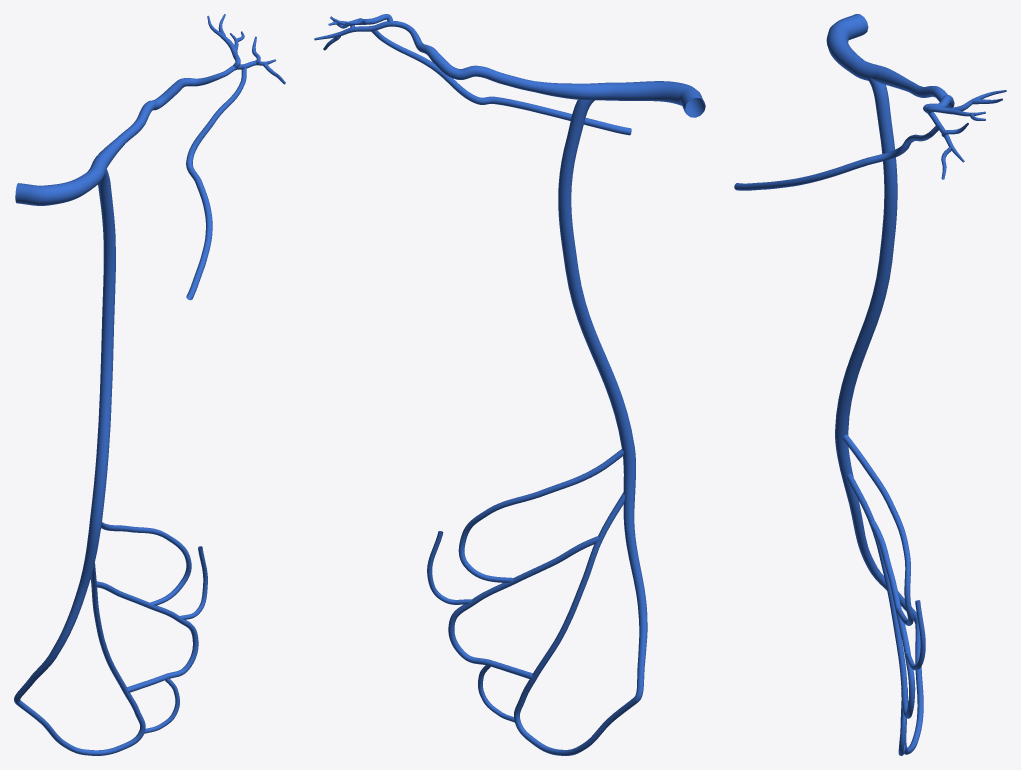
File: circulatorio-splenic-vein.glb
The picture shows the model from 3 angles, left to right: view 1: azimuth 30°, elevation 25°; view 2: azimuth 150°, elevation 25°; view 3: azimuth 270°, elevation 25°; orthographic projection. The views are drawn at different scales.
Visible parts, largest first — view 1: Inferior mesenteric vein, Sigmoid veins, Splenic vein, Left gastro-omental vein; view 2: Inferior mesenteric vein, Sigmoid veins, Splenic vein, Left gastro-omental vein; view 3: Inferior mesenteric vein, Sigmoid veins, Splenic vein, Left gastro-omental vein.
Part boxes in pixels (x1,y1,x2,y2): Inferior mesenteric vein: [14, 169, 115, 704]; Sigmoid veins: [16, 522, 207, 755]; Splenic vein: [15, 14, 285, 205]; Left gastro-omental vein: [186, 66, 246, 300]; Inferior mesenteric vein: [558, 100, 647, 701]; Sigmoid veins: [427, 449, 637, 755]; Splenic vein: [314, 14, 705, 117]; Left gastro-omental vein: [371, 30, 631, 135]; Inferior mesenteric vein: [835, 77, 918, 624]; Sigmoid veins: [842, 434, 925, 755]; Splenic vein: [826, 14, 1006, 179]; Left gastro-omental vein: [734, 125, 938, 190].
Bounding box in the file's own units: 0.1061 × 0.2185 × 0.0732.
